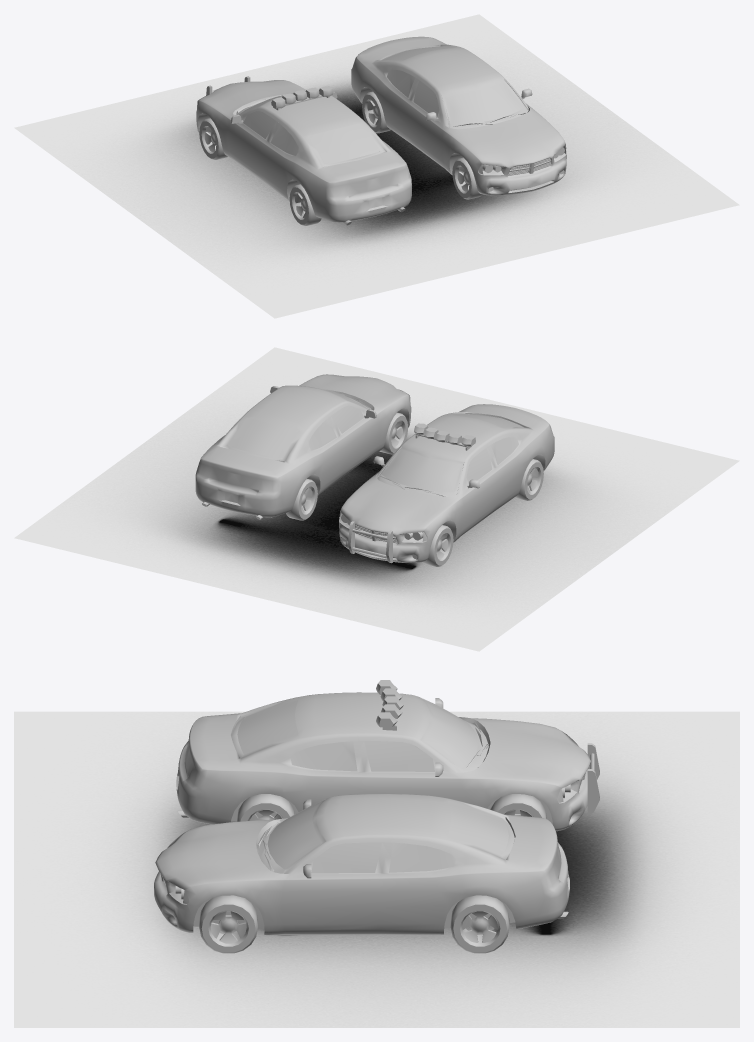
File: charger.FBX
3 renders of one model, top to bottom at view 1: azimuth 30°, elevation 25°; view 2: azimuth 150°, elevation 25°; view 3: azimuth 270°, elevation 25°, orthographic. The views are drawn at different scales.
Visible parts, largest first — view 1: Plane001, Object003, Object001, Object004, Object002; view 2: Plane001, Object001, Object003, Object002, Object004; view 3: Plane001, Object003, Object001, Object004, Object002.
Boxes of the visible parts, left/top/right/bottom form: Plane001: left=14, top=14, right=739, bottom=318; Object003: left=351, top=36, right=566, bottom=199; Object001: left=196, top=76, right=411, bottom=225; Object004: left=383, top=46, right=523, bottom=124; Object002: left=239, top=95, right=379, bottom=163; Plane001: left=14, top=347, right=739, bottom=651; Object001: left=339, top=404, right=554, bottom=566; Object003: left=195, top=374, right=411, bottom=520; Object002: left=382, top=413, right=521, bottom=492; Object004: left=227, top=390, right=368, bottom=458; Plane001: left=14, top=711, right=739, bottom=1027; Object003: left=154, top=794, right=569, bottom=953; Object001: left=176, top=680, right=599, bottom=831; Object004: left=267, top=801, right=508, bottom=873; Object002: left=237, top=700, right=478, bottom=771.
Bounding box in the file's own units: 421 × 76.27 × 408.
